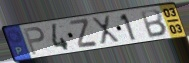1: (119, 13, 138, 42)
4: (52, 23, 71, 52)
B: (139, 8, 168, 39)
P: (22, 26, 47, 57)
X: (91, 14, 122, 46)
Z: (68, 17, 99, 49)
